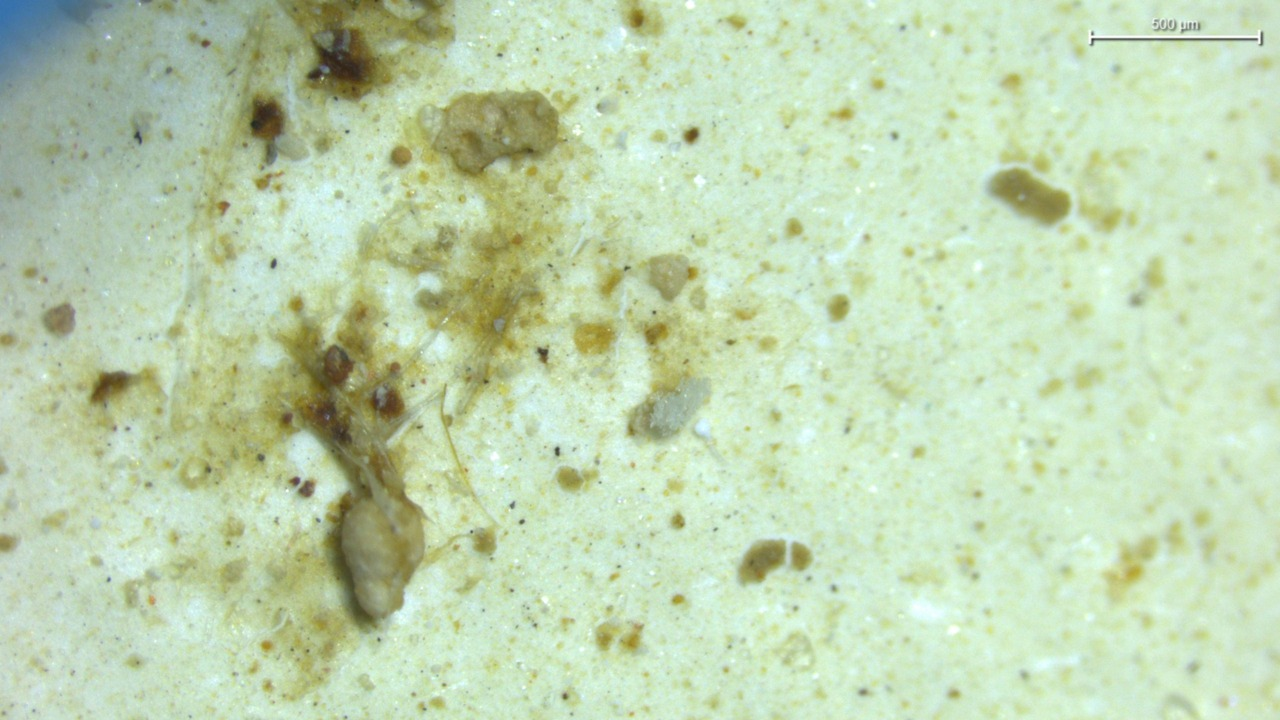microplastic_fragment: (340, 484, 424, 620), (420, 91, 558, 173), (632, 377, 710, 439), (650, 255, 689, 300)
